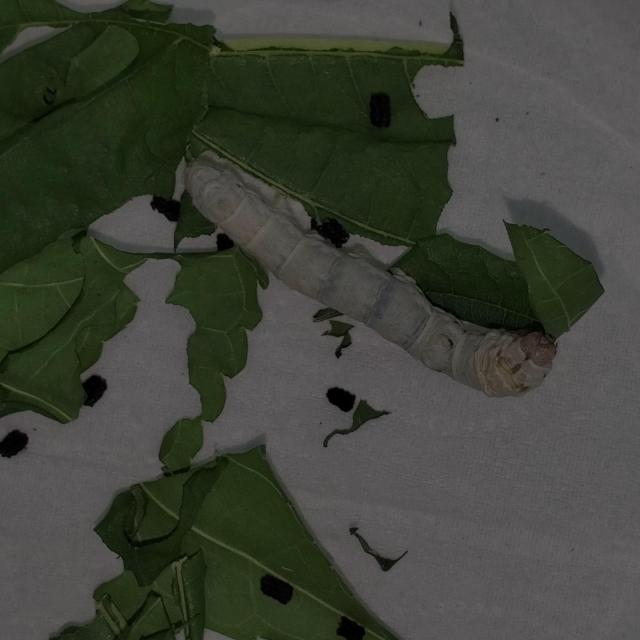Healthy: (179, 141, 559, 406)
